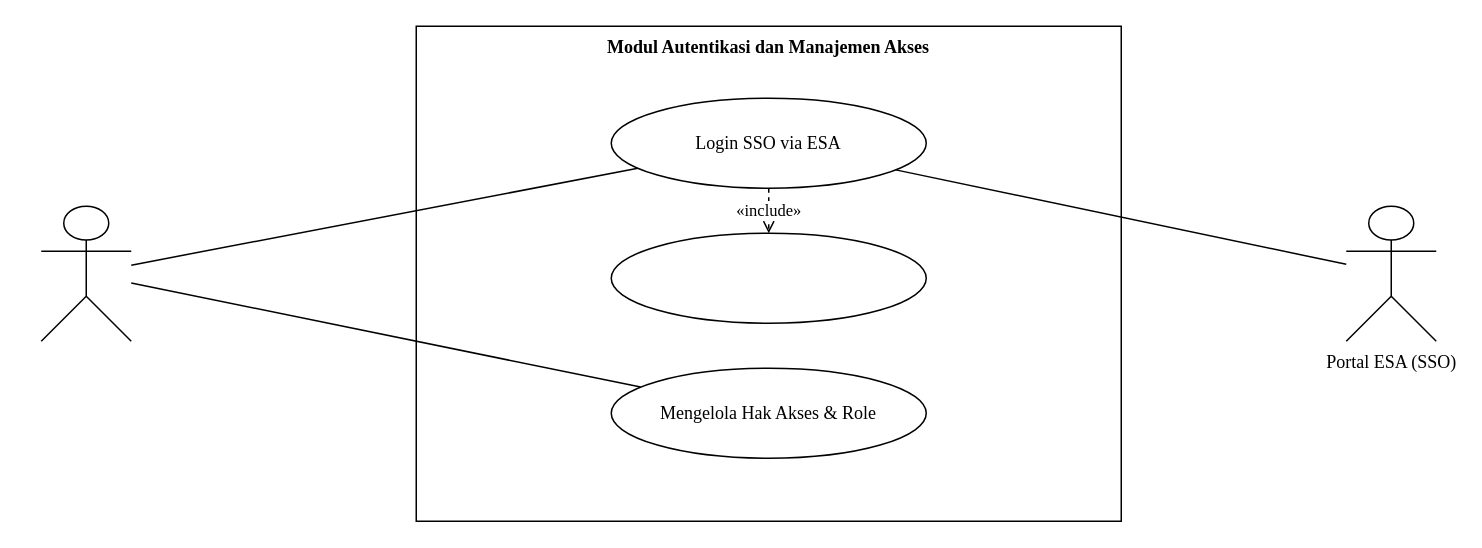
The diagram is 1482 pixels wide and 548 high, and some of its shapes have lost their labels. The box of each missing label's shape, as (x1, y1, x2, y2) in pixels:
Cost Accounting: (40, 205, 131, 341)
Validasi Token & Role: (610, 232, 926, 323)
